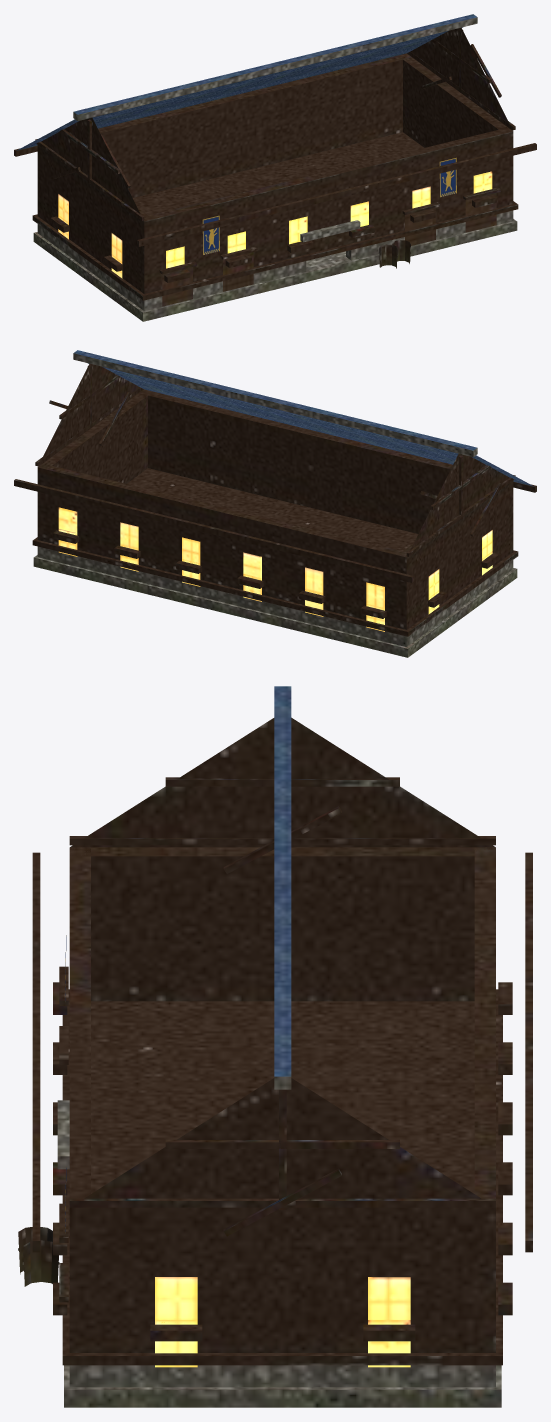
Rendered from bld_stables_card_lod2.glb.
The picture shows the model from 3 angles, top to bottom: view 1: azimuth 30°, elevation 25°; view 2: azimuth 150°, elevation 25°; view 3: azimuth 270°, elevation 25°; orthographic projection. The views are drawn at different scales.
Parts seen in each view (by area): view 1: stables_card; view 2: stables_card; view 3: stables_card.
Part boxes in pixels (<box>): stables_card: <box>14,14,536,321</box>; stables_card: <box>14,350,536,657</box>; stables_card: <box>18,686,532,1407</box>.
Size of the model in its own units: 35.07 by 13.6 by 18.48.
Materials: 1 (1 with a texture image).
